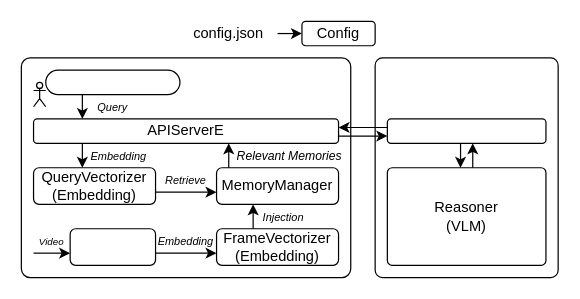
Some shapes in this 580 by 299 pixel diagram are drawn without their labels. The centre of each missing label's shape, as x and y in pixels:
"APIServerC" goes at (466,130).
"StreamInput" goes at (112,246).
"What's the weather like today?" goes at (112,82).
